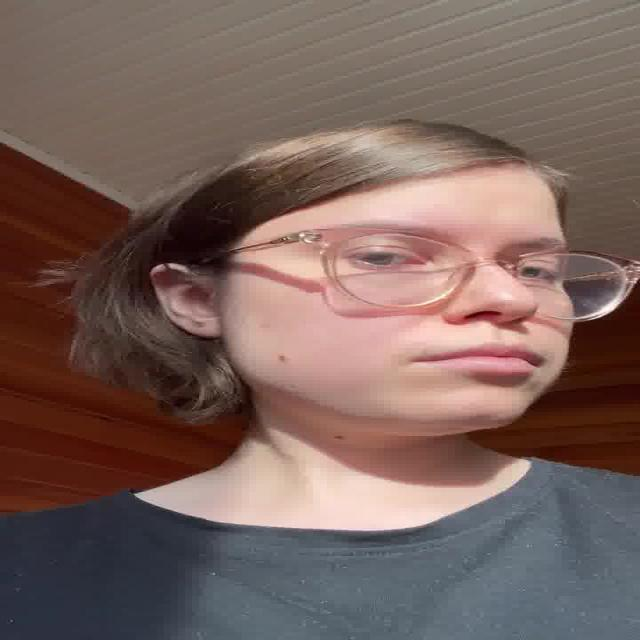earlobe: (186, 314, 223, 338)
eye: (339, 249, 427, 268), (507, 262, 560, 280)
nose: (449, 318, 537, 343)
wholeear: (149, 263, 224, 339)
